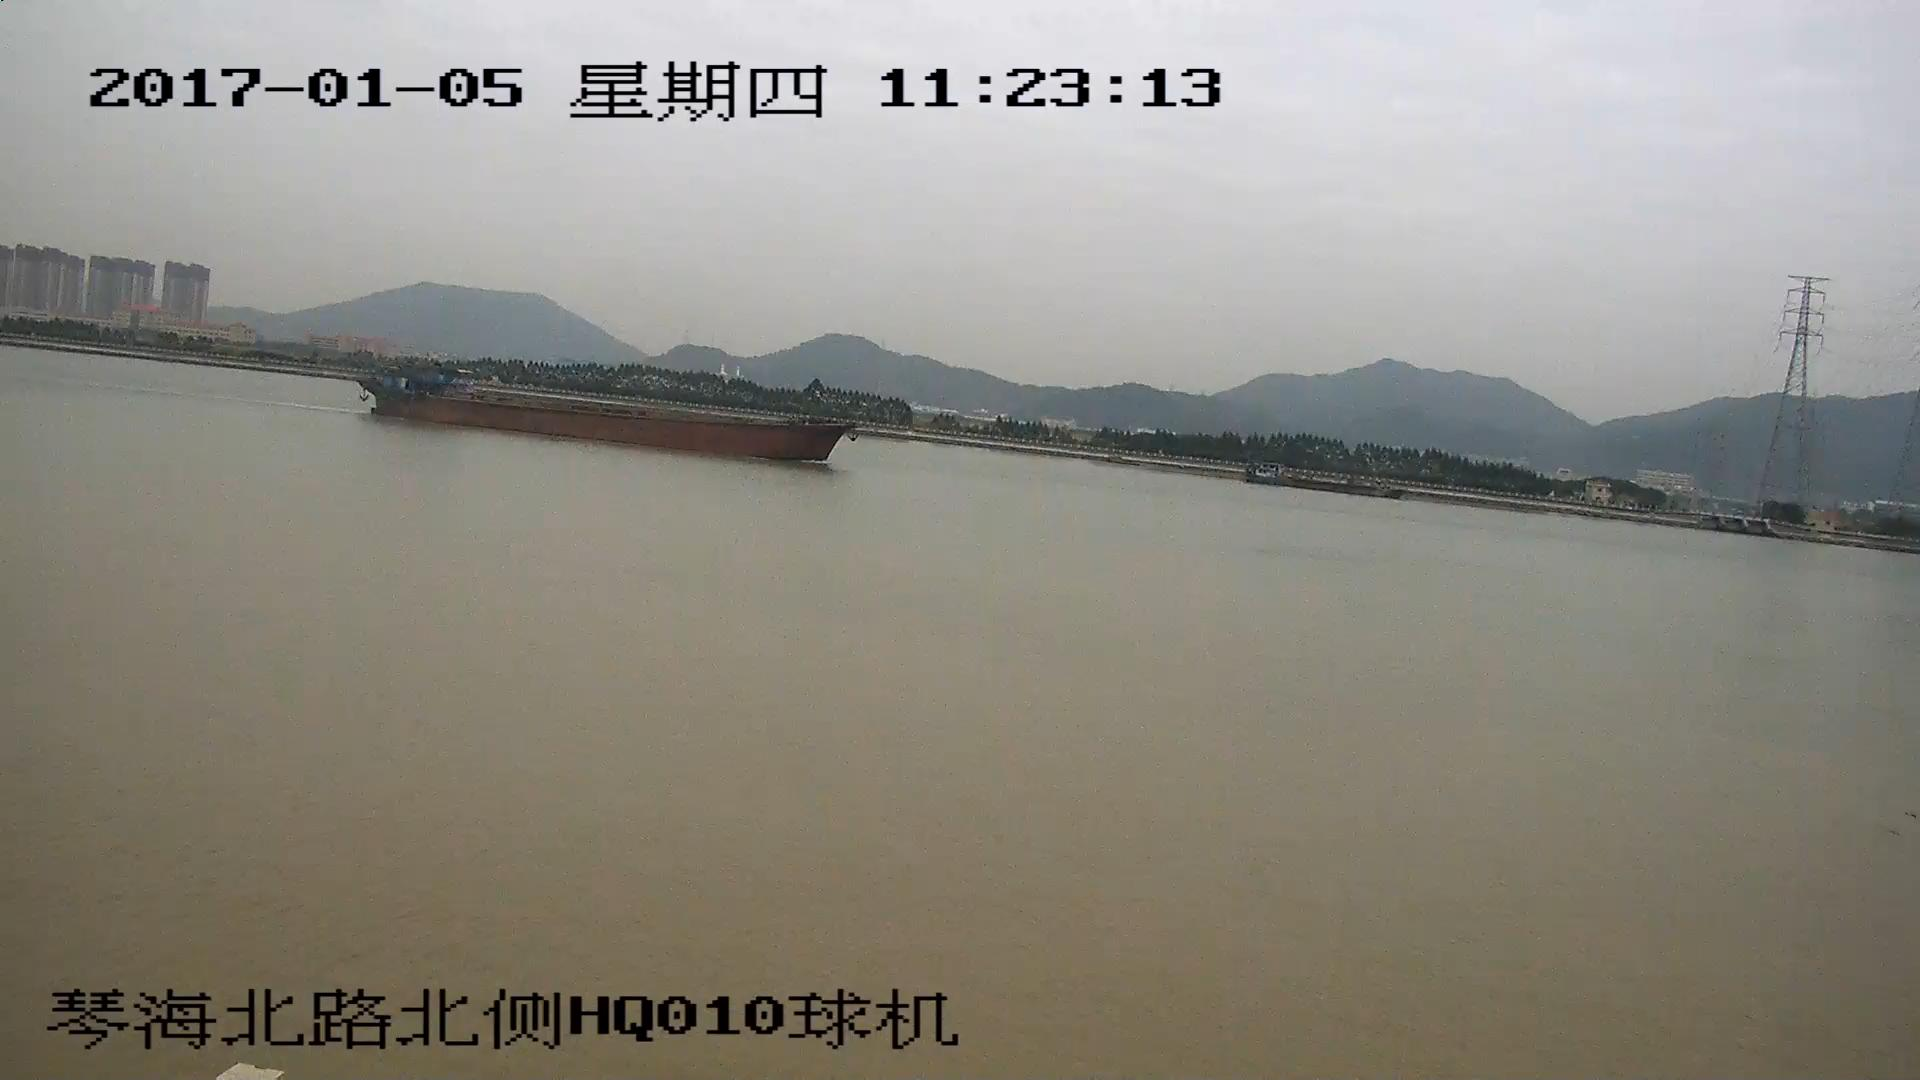bulk cargo carrier: (360, 370, 848, 463)
